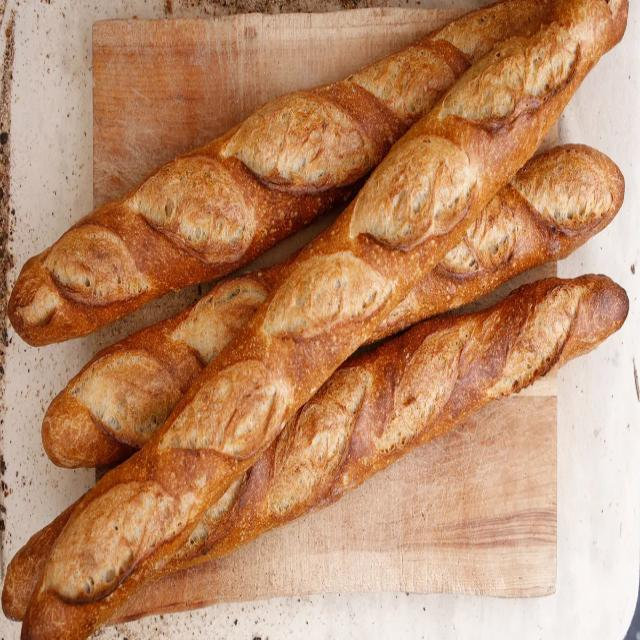Baguette: (39, 11, 610, 603), (9, 0, 557, 345), (145, 275, 628, 577), (42, 265, 289, 467), (380, 144, 623, 337)
